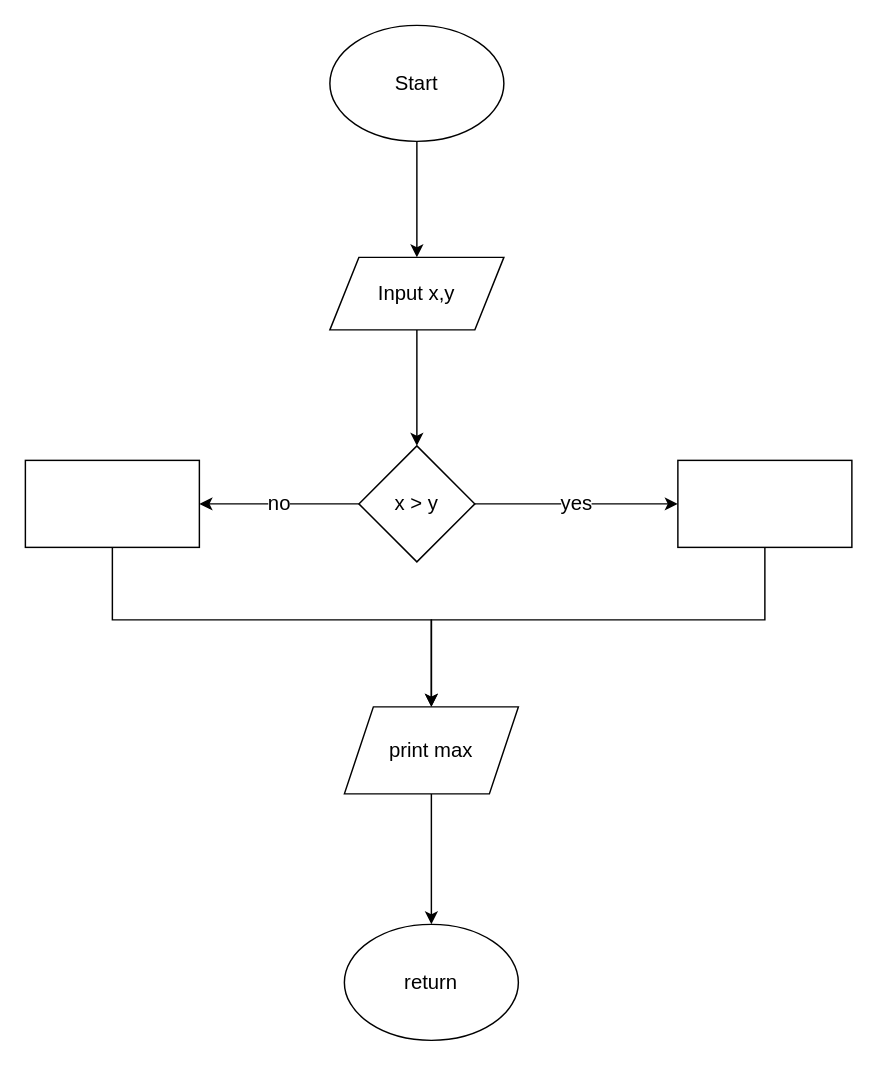
The diagram is 877 pixels wide and 1066 high, and some of its shapes have lost their labels. Each missing label, with the centre of its shape:
"max = x" goes at [764,503].
"max = y" goes at [111,503].
